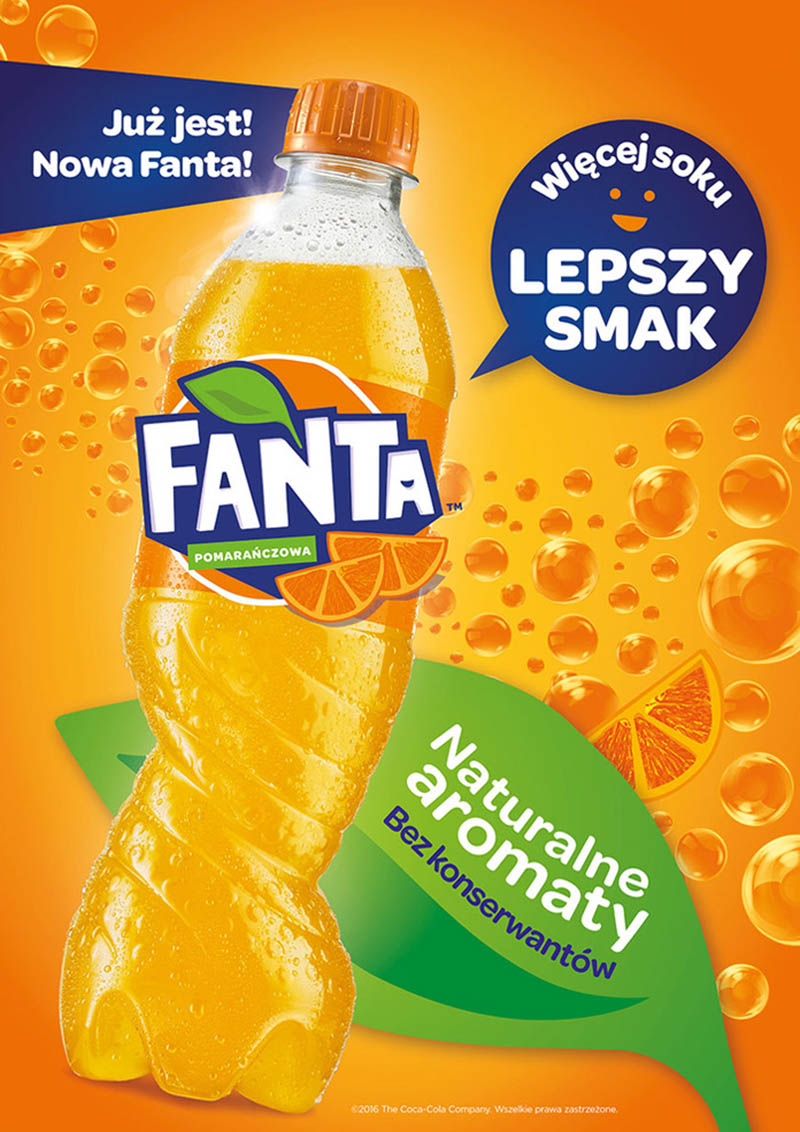Fanta: (129, 75, 415, 1125)
